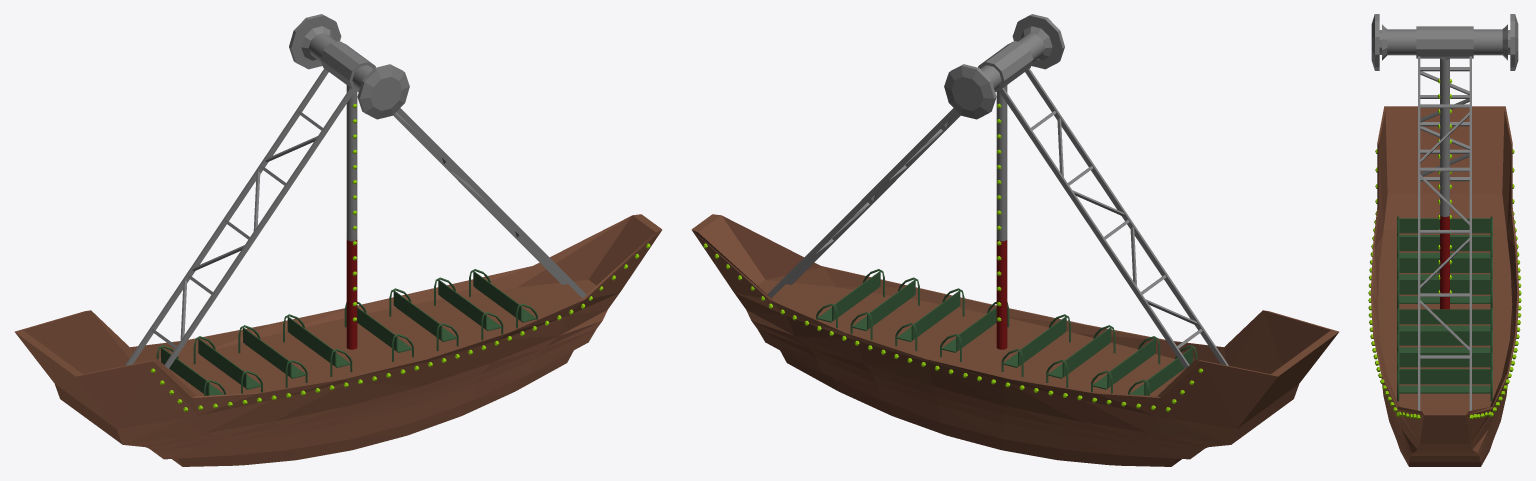
The model's file is SM_pirateship_ship.fbx.
The picture shows the model from 3 angles, left to right: view 1: azimuth 30°, elevation 25°; view 2: azimuth 150°, elevation 25°; view 3: azimuth 270°, elevation 25°; orthographic projection.
Visible parts, largest first — view 1: Cylinder110; view 2: Cylinder110; view 3: Cylinder110.
Part boxes in pixels (left/top/right/bottom): Cylinder110: left=15, top=14, right=662, bottom=466; Cylinder110: left=691, top=14, right=1338, bottom=466; Cylinder110: left=1368, top=14, right=1521, bottom=466.
Bounding box in the file's own units: 831 × 498 × 184.
